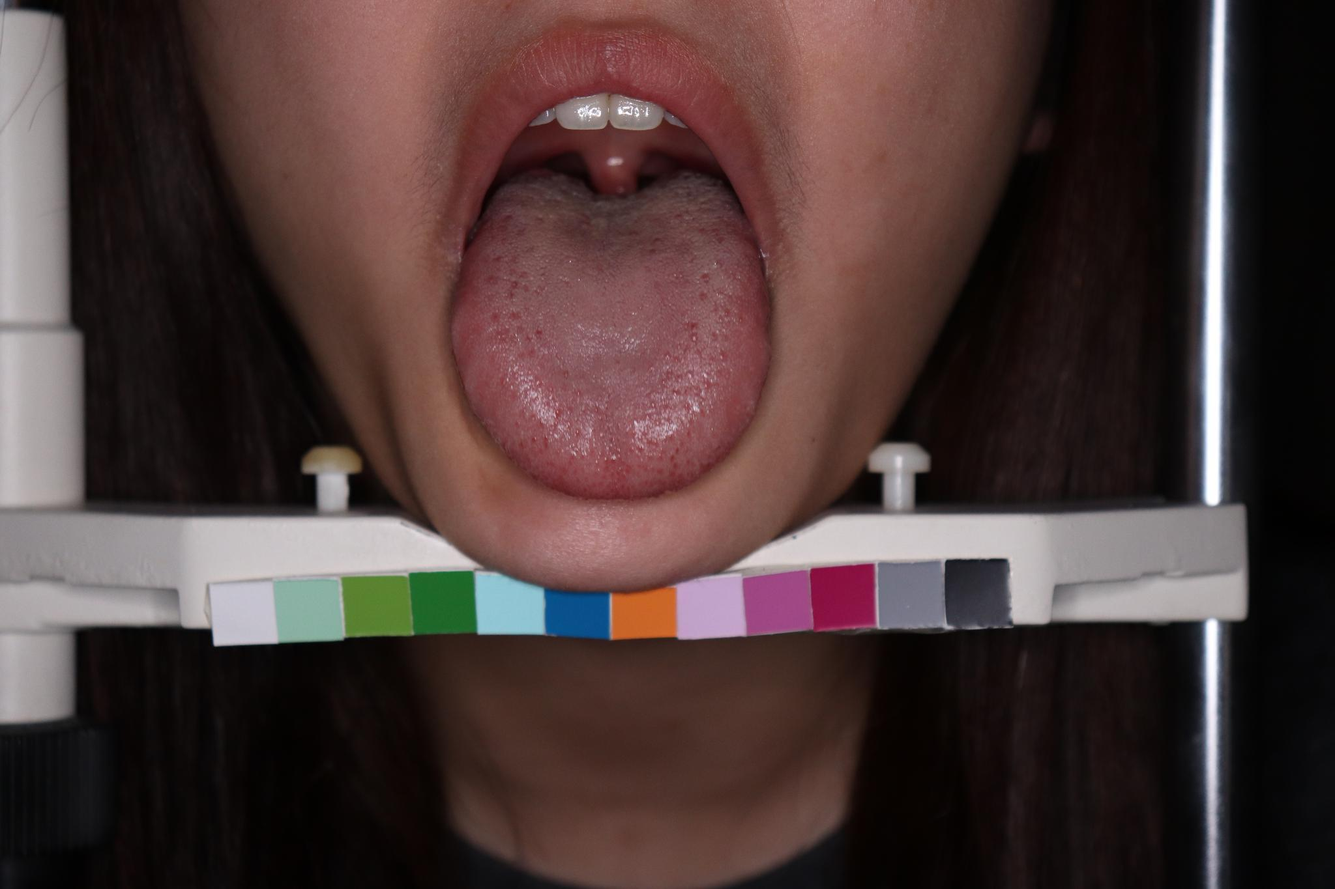baitaishe: (451, 167, 770, 500)
hongdianshe: (687, 319, 698, 330), (534, 328, 545, 337), (529, 434, 538, 444), (673, 446, 681, 455)
shenquao: (536, 166, 692, 212)
